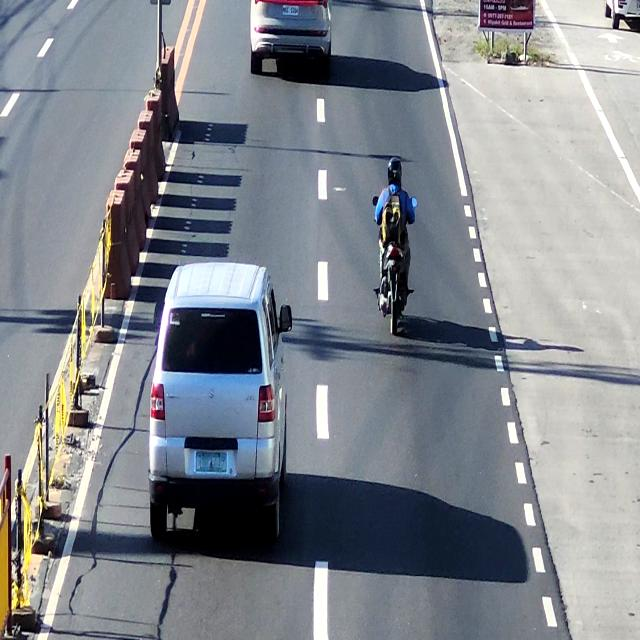Car: (154, 263, 290, 540), (247, 0, 331, 77)
License-Plate: (190, 444, 232, 484), (280, 4, 300, 15)
Motorcycle: (370, 152, 420, 353)
